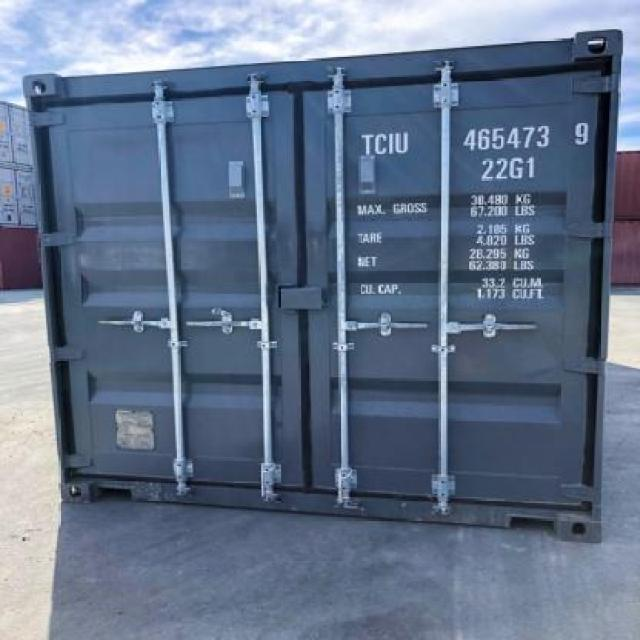ISO: (479, 156, 536, 180)
container_number: (358, 124, 596, 158)
